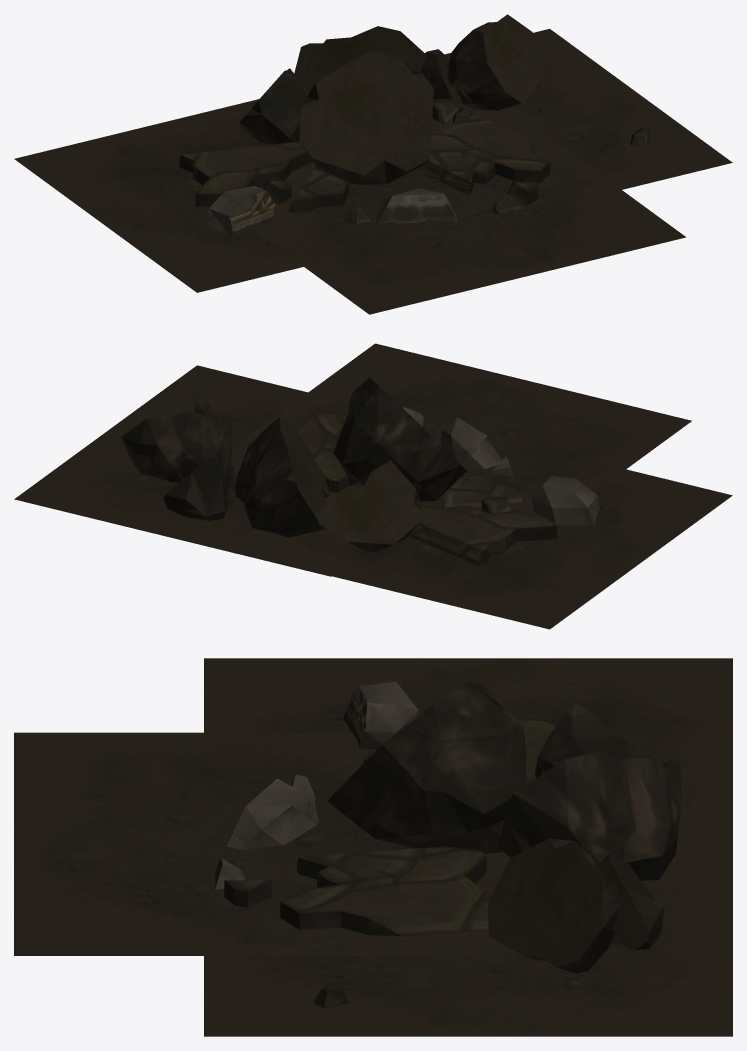
Rendered from fortress_rubble_01.fbx.
3 views of the same model, one above another, from view 1: azimuth 30°, elevation 25°; view 2: azimuth 150°, elevation 25°; view 3: azimuth 270°, elevation 25° (orthographic). The views are drawn at different scales.
Parts seen in each view (by area): view 1: fortress_rubble_01-0; view 2: fortress_rubble_01-0; view 3: fortress_rubble_01-0.
Boxes of the visible parts, <box> form: fortress_rubble_01-0: <box>14,14,732,314</box>; fortress_rubble_01-0: <box>14,343,732,629</box>; fortress_rubble_01-0: <box>14,658,732,1036</box>.
Size of the model in its own units: 6.76 by 1.43 by 5.44.
